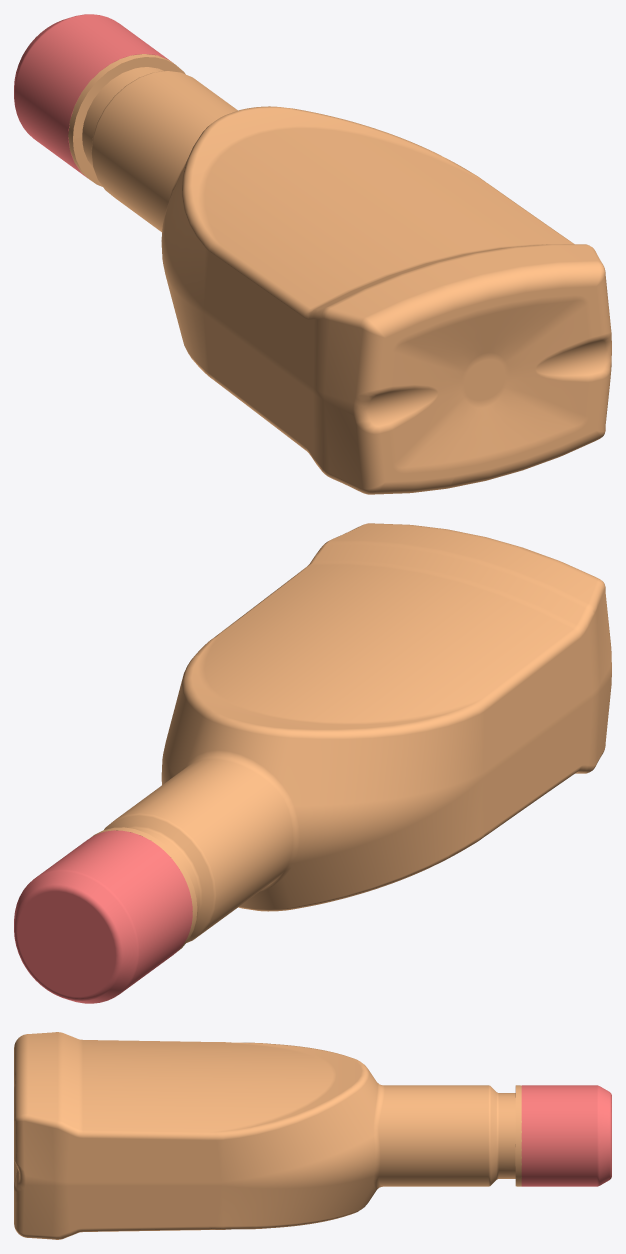
File: Source Bottle.gltf
3 views of the same model, one above another, from view 1: azimuth 30°, elevation 25°; view 2: azimuth 150°, elevation 25°; view 3: azimuth 270°, elevation 25° (orthographic). The views are drawn at different scales.
Visible parts, largest first — view 1: 2.19.10 300ml, 2.19.10 Cap; view 2: 2.19.10 300ml, 2.19.10 Cap; view 3: 2.19.10 300ml, 2.19.10 Cap.
Part boxes in pixels (bbox=[...]): 2.19.10 300ml: bbox=[68, 54, 611, 494]; 2.19.10 Cap: bbox=[14, 14, 171, 178]; 2.19.10 300ml: bbox=[92, 523, 611, 952]; 2.19.10 Cap: bbox=[14, 830, 192, 1003]; 2.19.10 300ml: bbox=[14, 1032, 521, 1239]; 2.19.10 Cap: bbox=[521, 1085, 611, 1186].
Bounding box in the file's own units: 0.0674 × 0.0473 × 0.1771.
